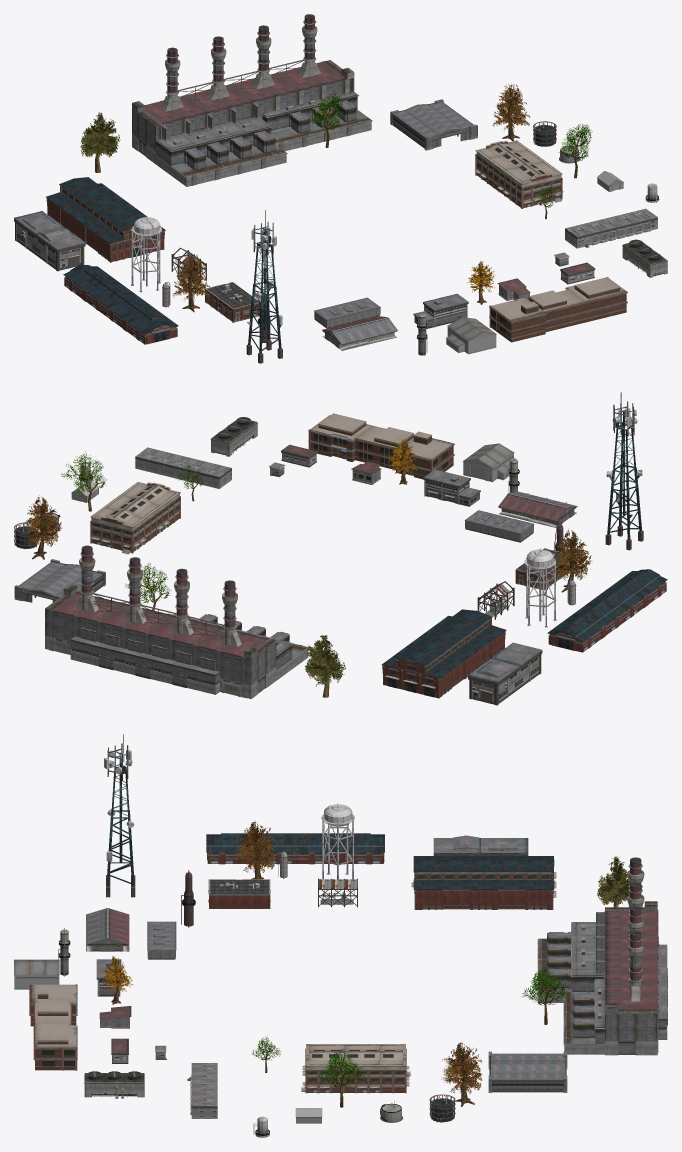
File: surroundings.glb
3 renders of one model, top to bottom at view 1: azimuth 30°, elevation 25°; view 2: azimuth 150°, elevation 25°; view 3: azimuth 270°, elevation 25°, orthographic. The views are drawn at different scales.
Visible parts, largest first — view 1: Industrial_Powerplant_1_Industrial_Walls_FLR_1_0, Industrial_FactoryPlant_1_Industrial_Walls_FLR_2_0, Industrial_Warehouse_4_Industrial_Facade_Flr_1_0, Industrial_Building_10_Material #2_0, Industrial_FactoryPlant_2_Industrial_Walls_FLR_2_Dif_0, Industrial_Warehouse_1_Industrial_Facade_Flr_1_0, Industrial_Hangar_2_Industrial_Walls_FLR_1_0, Industrial_Radiotower_1_Industrial_Walls_FLR_2_0, Industrial_LogisticTerminal_1_Industrial_Walls_FLR_1_0, Industrial_Warehouse_5_Industrial_Walls_FLR_1_0, Industrial_Building_1_Industrial_Roof_1_0, Industrial_Warehouse_3_Industrial_Trim_FLR_1_0 (+13 smaller); view 2: Industrial_Powerplant_1_Industrial_Walls_FLR_1_0, Industrial_FactoryPlant_1_Industrial_Walls_FLR_2_0, Industrial_Warehouse_4_Industrial_Facade_Flr_1_0, Industrial_Building_10_Material #2_0, Industrial_FactoryPlant_2_Industrial_Walls_FLR_2_Dif_0, Industrial_Warehouse_1_Industrial_Facade_Flr_1_0, Industrial_Radiotower_1_Industrial_Walls_FLR_2_0, Industrial_LogisticTerminal_1_Industrial_Walls_FLR_1_0, Industrial_Hangar_2_Industrial_Walls_FLR_1_0, Industrial_Warehouse_5_Industrial_Walls_FLR_1_0, Industrial_Watertower_1_Industrial_Trim_FLR_1_0, Industrial_Warehouse_3_Industrial_Trim_FLR_1_0 (+13 smaller); view 3: Industrial_Powerplant_1_Industrial_Walls_FLR_1_0, Industrial_FactoryPlant_1_Industrial_Walls_FLR_2_0, Industrial_Building_10_Material #2_0, Industrial_FactoryPlant_2_Industrial_Walls_FLR_2_Dif_0, Industrial_Warehouse_4_Industrial_Facade_Flr_1_0, Industrial_Hangar_2_Industrial_Walls_FLR_1_0, Industrial_Radiotower_1_Industrial_Walls_FLR_2_0, Industrial_Building_1_Industrial_Roof_1_0, Industrial_Warehouse_5_Industrial_Walls_FLR_1_0, Industrial_Warehouse_1_Industrial_Facade_Flr_1_0, Industrial_LogisticTerminal_1_Industrial_Walls_FLR_1_0, Industrial_Smth_2_Industrial_Walls_FLR_1_0 (+13 smaller).
Boxes of the visible parts, left/top/right/bottom form: Industrial_Powerplant_1_Industrial_Walls_FLR_1_0: left=132, top=14, right=372, bottom=186; Industrial_FactoryPlant_1_Industrial_Walls_FLR_2_0: left=46, top=177, right=165, bottom=262; Industrial_Warehouse_4_Industrial_Facade_Flr_1_0: left=489, top=277, right=627, bottom=342; Industrial_Building_10_Material #2_0: left=474, top=140, right=563, bottom=208; Industrial_FactoryPlant_2_Industrial_Walls_FLR_2_Dif_0: left=63, top=264, right=178, bottom=344; Industrial_Warehouse_1_Industrial_Facade_Flr_1_0: left=14, top=211, right=85, bottom=271; Industrial_Hangar_2_Industrial_Walls_FLR_1_0: left=390, top=99, right=477, bottom=150; Industrial_Radiotower_1_Industrial_Walls_FLR_2_0: left=246, top=210, right=282, bottom=363; Industrial_LogisticTerminal_1_Industrial_Walls_FLR_1_0: left=565, top=208, right=657, bottom=248; Industrial_Warehouse_5_Industrial_Walls_FLR_1_0: left=322, top=316, right=398, bottom=350; Industrial_Building_1_Industrial_Roof_1_0: left=205, top=282, right=260, bottom=322; Industrial_Warehouse_3_Industrial_Trim_FLR_1_0: left=446, top=317, right=496, bottom=354; Industrial_Powerplant_1_Industrial_Walls_FLR_1_0: left=45, top=545, right=308, bottom=698; Industrial_FactoryPlant_1_Industrial_Walls_FLR_2_0: left=381, top=609, right=506, bottom=698; Industrial_Warehouse_4_Industrial_Facade_Flr_1_0: left=308, top=413, right=454, bottom=479; Industrial_Building_10_Material #2_0: left=90, top=482, right=180, bottom=554; Industrial_FactoryPlant_2_Industrial_Walls_FLR_2_Dif_0: left=547, top=569, right=667, bottom=652; Industrial_Warehouse_1_Industrial_Facade_Flr_1_0: left=467, top=642, right=542, bottom=705; Industrial_Radiotower_1_Industrial_Walls_FLR_2_0: left=605, top=392, right=643, bottom=550; Industrial_LogisticTerminal_1_Industrial_Walls_FLR_1_0: left=135, top=447, right=231, bottom=488; Industrial_Hangar_2_Industrial_Walls_FLR_1_0: left=14, top=559, right=105, bottom=602; Industrial_Warehouse_5_Industrial_Walls_FLR_1_0: left=498, top=491, right=577, bottom=527; Industrial_Watertower_1_Industrial_Trim_FLR_1_0: left=524, top=548, right=556, bottom=627; Industrial_Warehouse_3_Industrial_Trim_FLR_1_0: left=463, top=443, right=514, bottom=482; Industrial_Powerplant_1_Industrial_Walls_FLR_1_0: left=537, top=857, right=667, bottom=1055; Industrial_FactoryPlant_1_Industrial_Walls_FLR_2_0: left=411, top=856, right=556, bottom=909; Industrial_Building_10_Material #2_0: left=301, top=1044, right=410, bottom=1093; Industrial_FactoryPlant_2_Industrial_Walls_FLR_2_Dif_0: left=206, top=833, right=384, bottom=864; Industrial_Warehouse_4_Industrial_Facade_Flr_1_0: left=29, top=984, right=77, bottom=1070; Industrial_Hangar_2_Industrial_Walls_FLR_1_0: left=488, top=1051, right=567, bottom=1092; Industrial_Radiotower_1_Industrial_Walls_FLR_2_0: left=104, top=734, right=135, bottom=897; Industrial_Building_1_Industrial_Roof_1_0: left=208, top=879, right=270, bottom=908; Industrial_Warehouse_5_Industrial_Walls_FLR_1_0: left=86, top=908, right=129, bottom=951; Industrial_Warehouse_1_Industrial_Facade_Flr_1_0: left=433, top=835, right=528, bottom=855; Industrial_LogisticTerminal_1_Industrial_Walls_FLR_1_0: left=187, top=1063, right=217, bottom=1118; Industrial_Smth_2_Industrial_Walls_FLR_1_0: left=84, top=1071, right=144, bottom=1098.
Size of the model in its own units: 1490 by 422 by 1432.
Materials: 27 (27 with a texture image).
